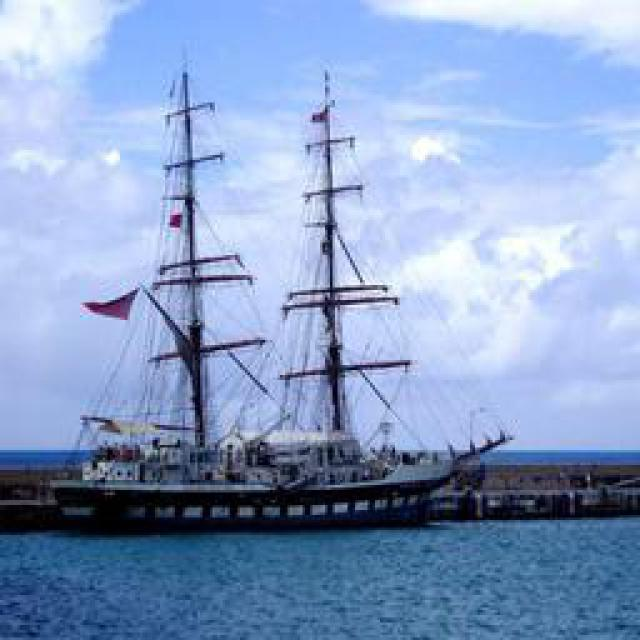Ship: (31, 71, 496, 536)
